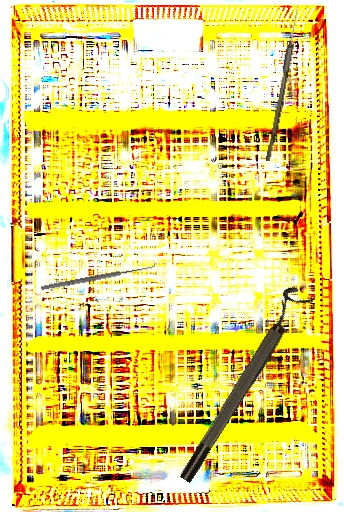Fixation Ring: (168, 283, 314, 486)
Hook Surgical: (40, 259, 156, 292)
Surgical Spoon: (265, 4, 302, 162)
